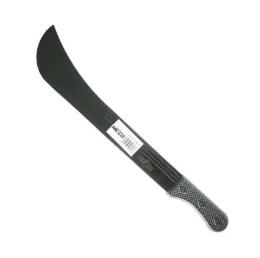MACHETTE: (33, 19, 238, 246)
